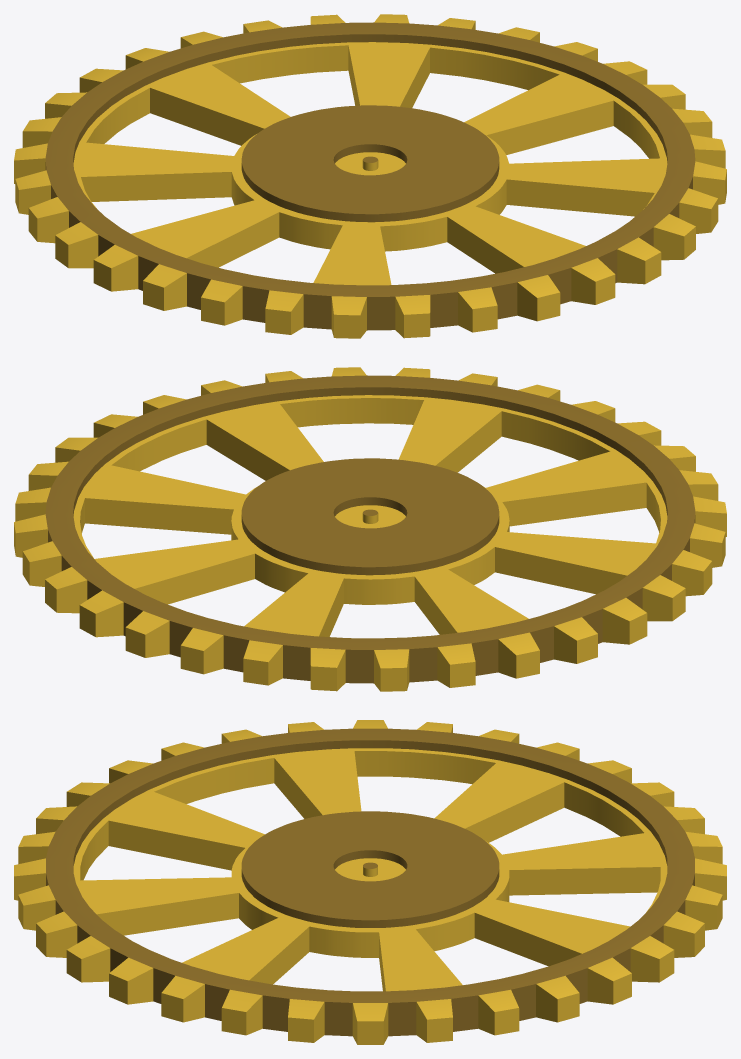
File: mdl_zesty_gear_planet.gltf
The picture shows the model from 3 angles, top to bottom: view 1: azimuth 30°, elevation 25°; view 2: azimuth 150°, elevation 25°; view 3: azimuth 270°, elevation 25°; orthographic projection.
Parts seen in each view (by area): view 1: mdl_zesty_gear_planet; view 2: mdl_zesty_gear_planet; view 3: mdl_zesty_gear_planet.
Part boxes in pixels (x1,y1,x2,y2): mdl_zesty_gear_planet: [14, 14, 726, 338]; mdl_zesty_gear_planet: [14, 367, 726, 691]; mdl_zesty_gear_planet: [14, 720, 726, 1044].
Size of the model in its own units: 2.91 by 0.1503 by 2.91.
